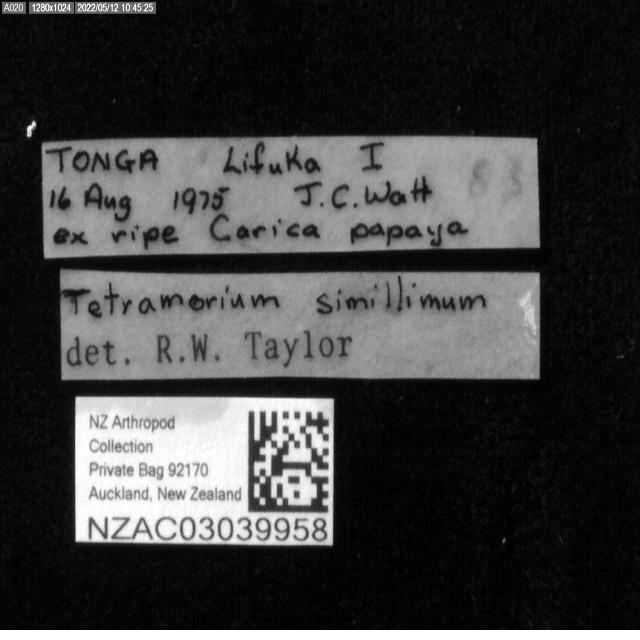hand_label: (42, 136, 540, 258)
mixed_label: (60, 270, 540, 380)
typed_label: (75, 397, 334, 545)
